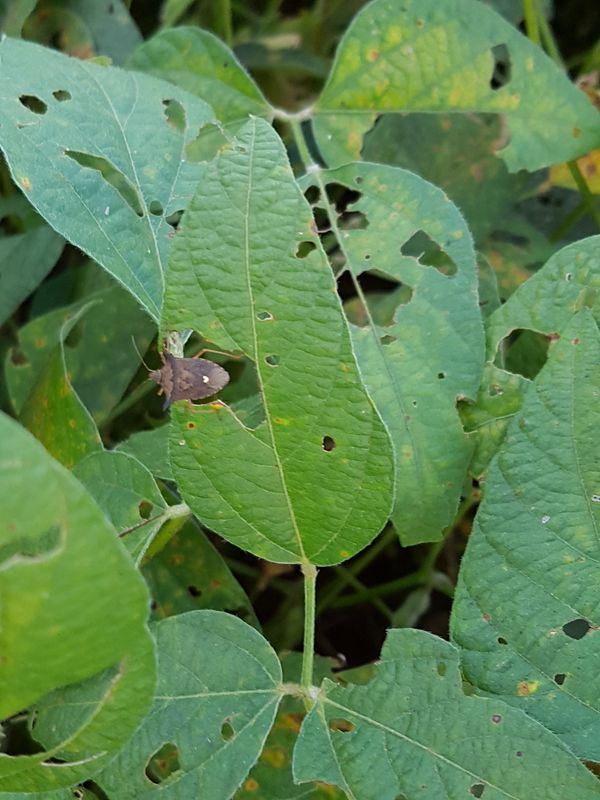Euschistus_heros_adulto: (129, 328, 245, 420)
